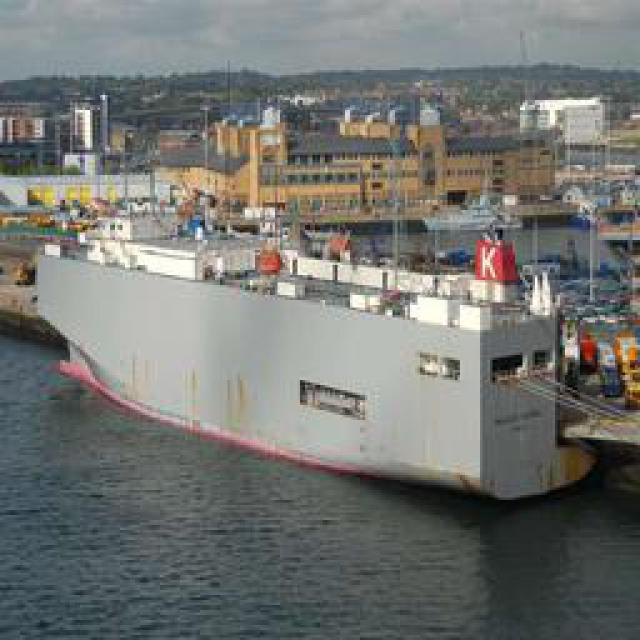Ship: (30, 243, 618, 518)
